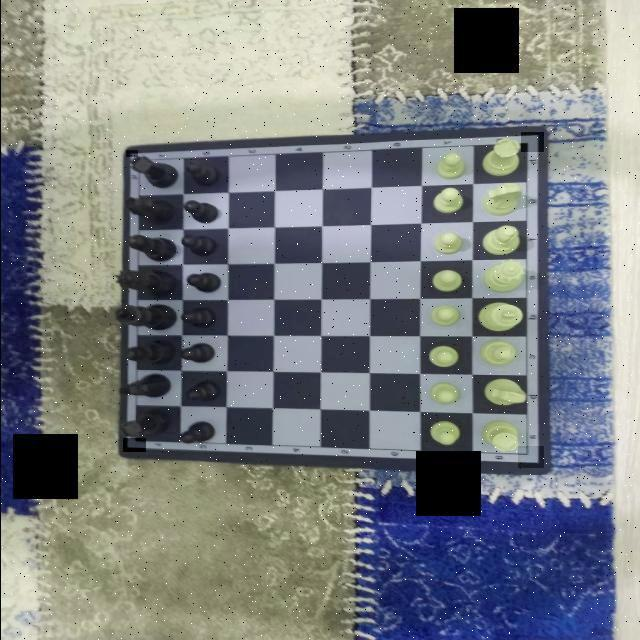chess-table-corners: (517, 446, 543, 468), (520, 132, 543, 152), (122, 438, 145, 452), (125, 150, 137, 157)
